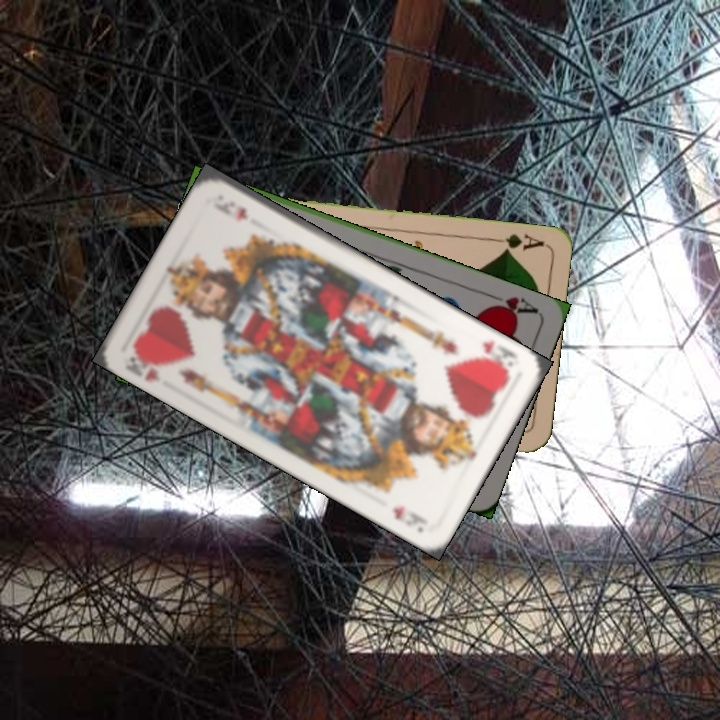GA: (487, 230, 547, 256)
HA: (483, 289, 541, 321)
HK: (121, 344, 170, 384), (476, 335, 521, 376)
